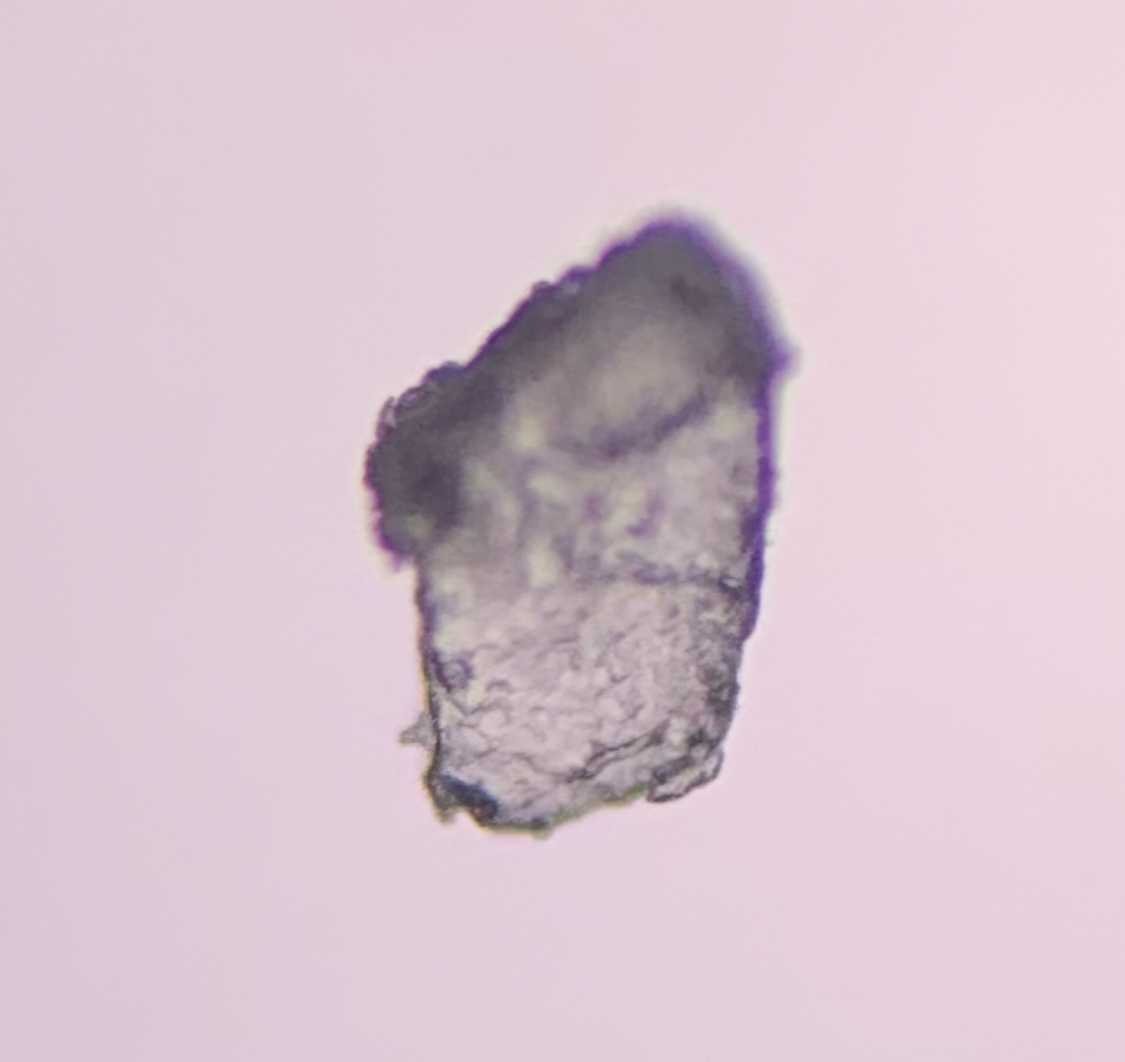microplastic: (360, 203, 811, 845)
